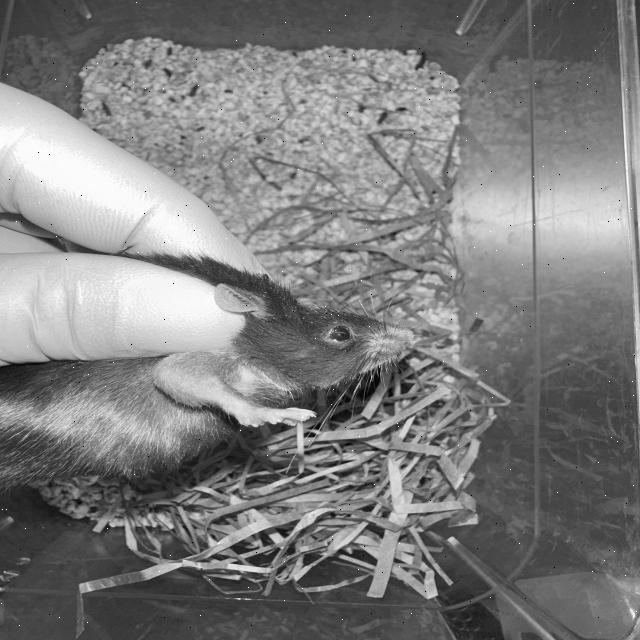Face: (212, 263, 419, 431)
